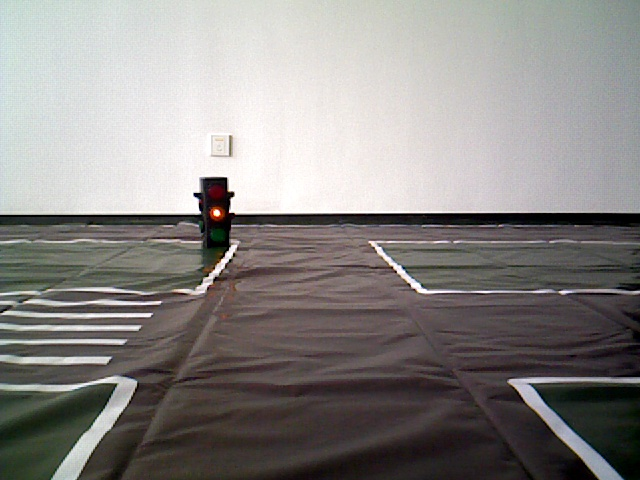yellow: (197, 173, 230, 247)
